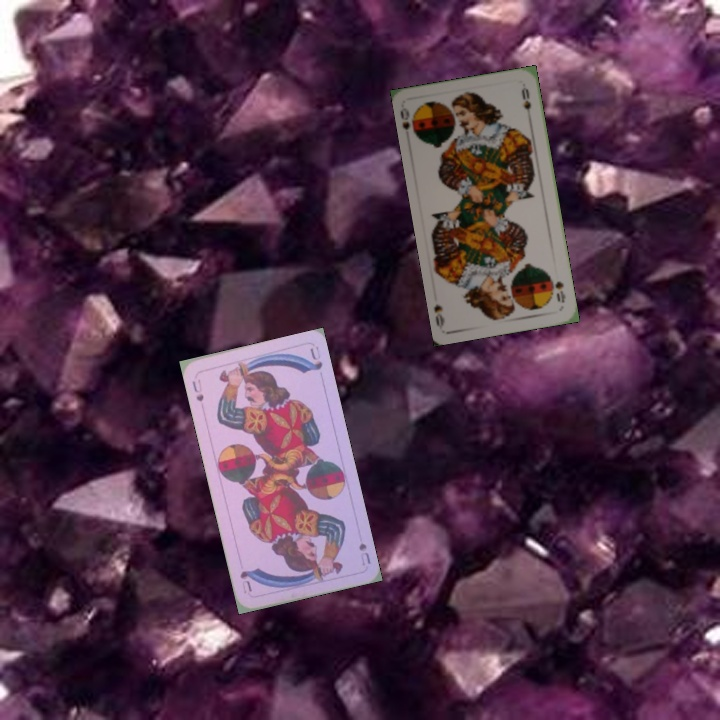SO: (396, 104, 421, 141), (548, 275, 568, 305)
SU: (355, 539, 373, 568), (188, 375, 206, 404)
